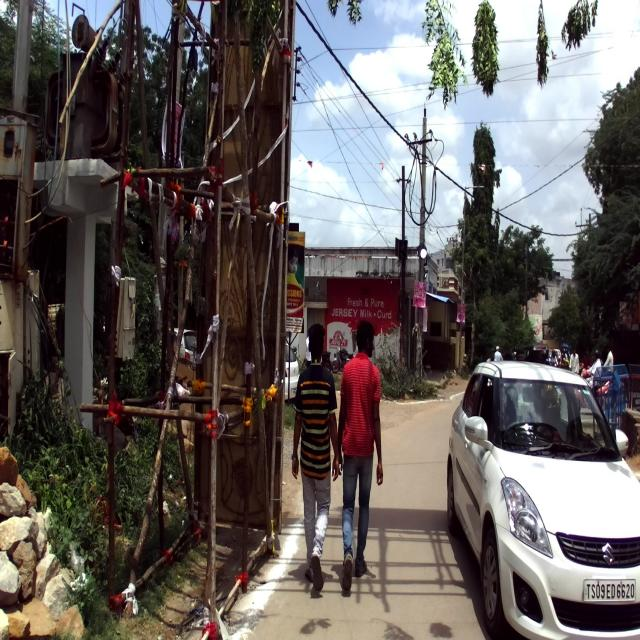Car_Maruti-Suzuki: (446, 359, 639, 639)
